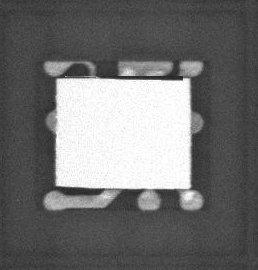DIE_BROKEN: (101, 74, 185, 82)
